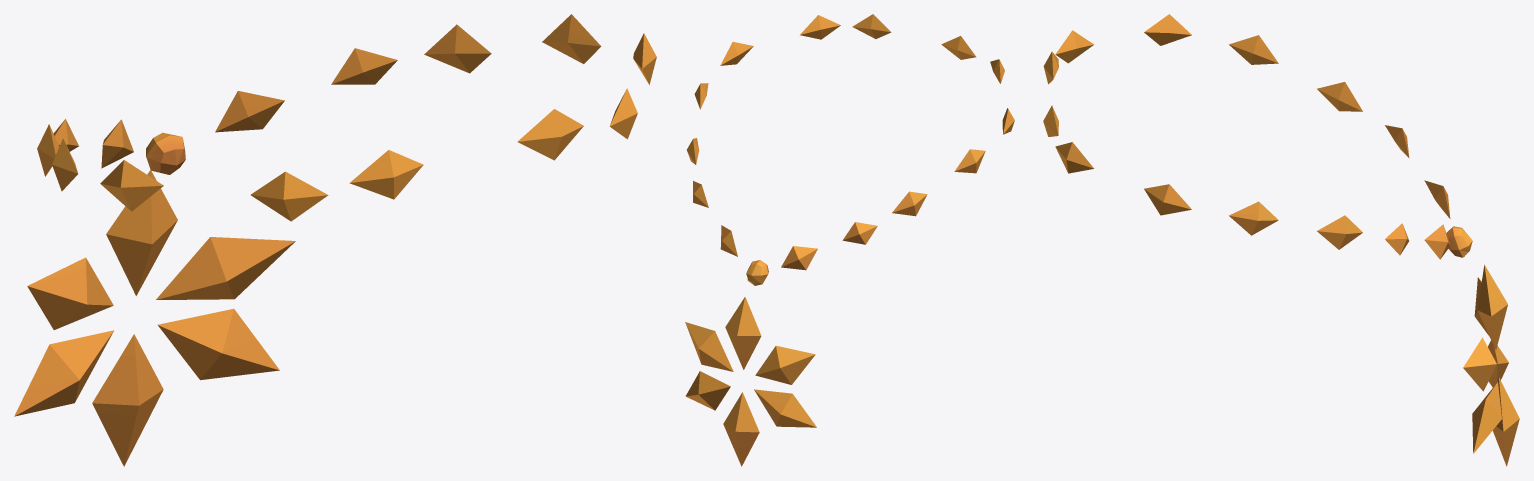
The model's file is CharSkyKid_Neck_AP01Pendant.glb.
3 views of the same model, side by side, from view 1: azimuth 30°, elevation 25°; view 2: azimuth 150°, elevation 25°; view 3: azimuth 270°, elevation 25° (orthographic). The views are drawn at different scales.
Visible parts, largest first — view 1: CharSkyKid_Neck_AP01Pendant; view 2: CharSkyKid_Neck_AP01Pendant; view 3: CharSkyKid_Neck_AP01Pendant.
Boxes of the visible parts, x1,y1,x2,y2 form: CharSkyKid_Neck_AP01Pendant: [14, 14, 656, 466]; CharSkyKid_Neck_AP01Pendant: [685, 14, 1014, 466]; CharSkyKid_Neck_AP01Pendant: [1043, 14, 1519, 466].
Size of the model in its own units: 1.79 by 1.86 by 2.05.
Materials: 1 (1 with a texture image).
